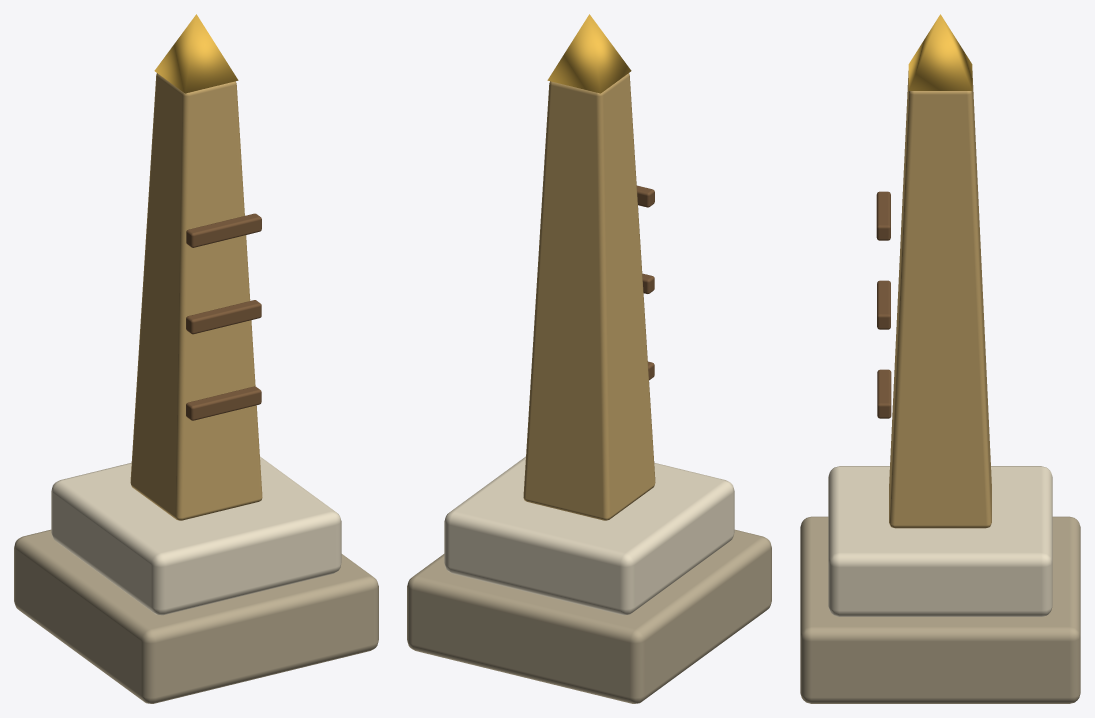
File: plinth.glb
3 renders of one model, left to right at view 1: azimuth 30°, elevation 25°; view 2: azimuth 150°, elevation 25°; view 3: azimuth 270°, elevation 25°, orthographic. The views are drawn at different scales.
Visible parts, largest first — view 1: plinth; view 2: plinth; view 3: plinth.
Boxes of the visible parts, box(x1,y1,x2,y2) form: plinth: box(14, 14, 378, 703); plinth: box(407, 14, 771, 703); plinth: box(800, 14, 1080, 703).
Size of the model in its own units: 1 by 2.49 by 1.
